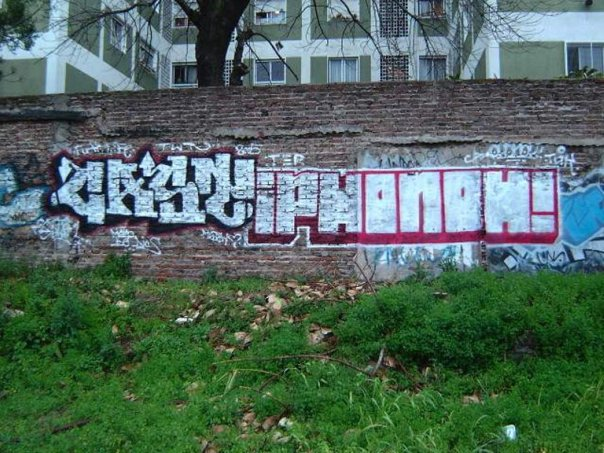graffity: (246, 166, 559, 246), (43, 150, 257, 238), (545, 178, 604, 251), (1, 157, 51, 232), (461, 141, 578, 172), (32, 214, 93, 251), (106, 224, 165, 261), (66, 139, 136, 158), (196, 224, 244, 250), (153, 139, 215, 154), (264, 153, 307, 169), (234, 141, 263, 159)
